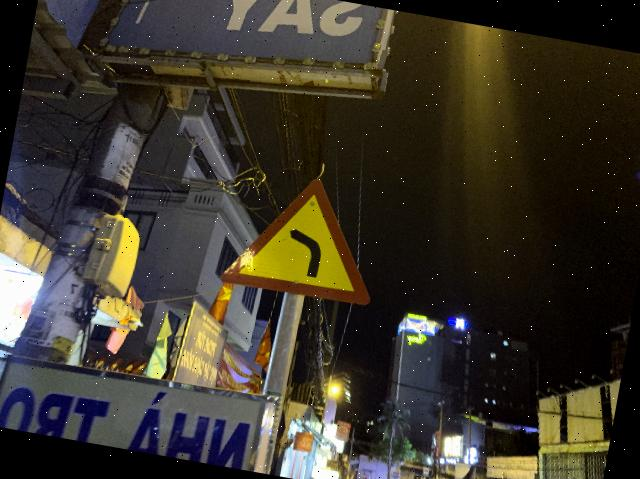cho-ngoat-nguy-hiem-ben-phai: (218, 166, 389, 308)
